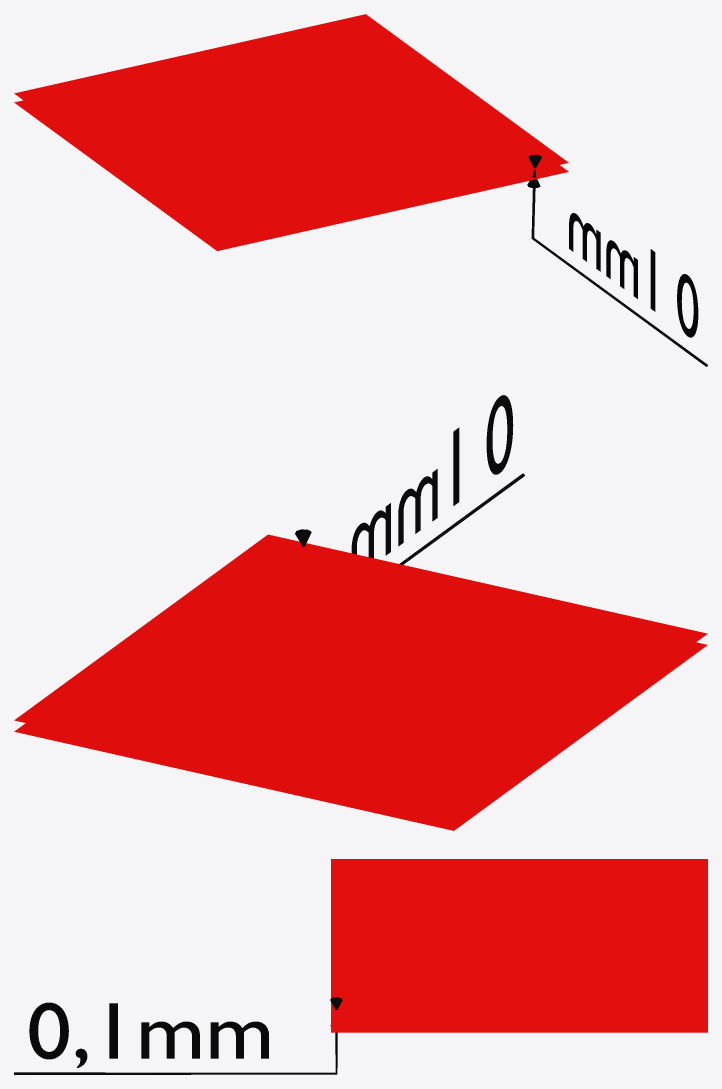
3 views of the same model, one above another, from view 1: azimuth 30°, elevation 25°; view 2: azimuth 150°, elevation 25°; view 3: azimuth 270°, elevation 25° (orthographic). The views are drawn at different scales.
Visible parts, largest first — view 1: RS_palallelisme, Text.006, NurbsPath.006; view 2: RS_palallelisme, Text.006; view 3: RS_palallelisme, Text.006, NurbsPath.006.
Part boxes in pixels (left/top/right/bottom): RS_palallelisme: left=14, top=14, right=568, bottom=250; Text.006: left=569, top=213, right=698, bottom=337; NurbsPath.006: left=531, top=167, right=707, bottom=366; RS_palallelisme: left=14, top=534, right=707, bottom=830; Text.006: left=351, top=395, right=513, bottom=558; RS_palallelisme: left=331, top=859, right=707, bottom=1032; Text.006: left=29, top=1002, right=268, bottom=1067; NurbsPath.006: left=14, top=1009, right=337, bottom=1074.
Bounding box in the file's own units: 2.92 × 0.6486 × 5.37.
